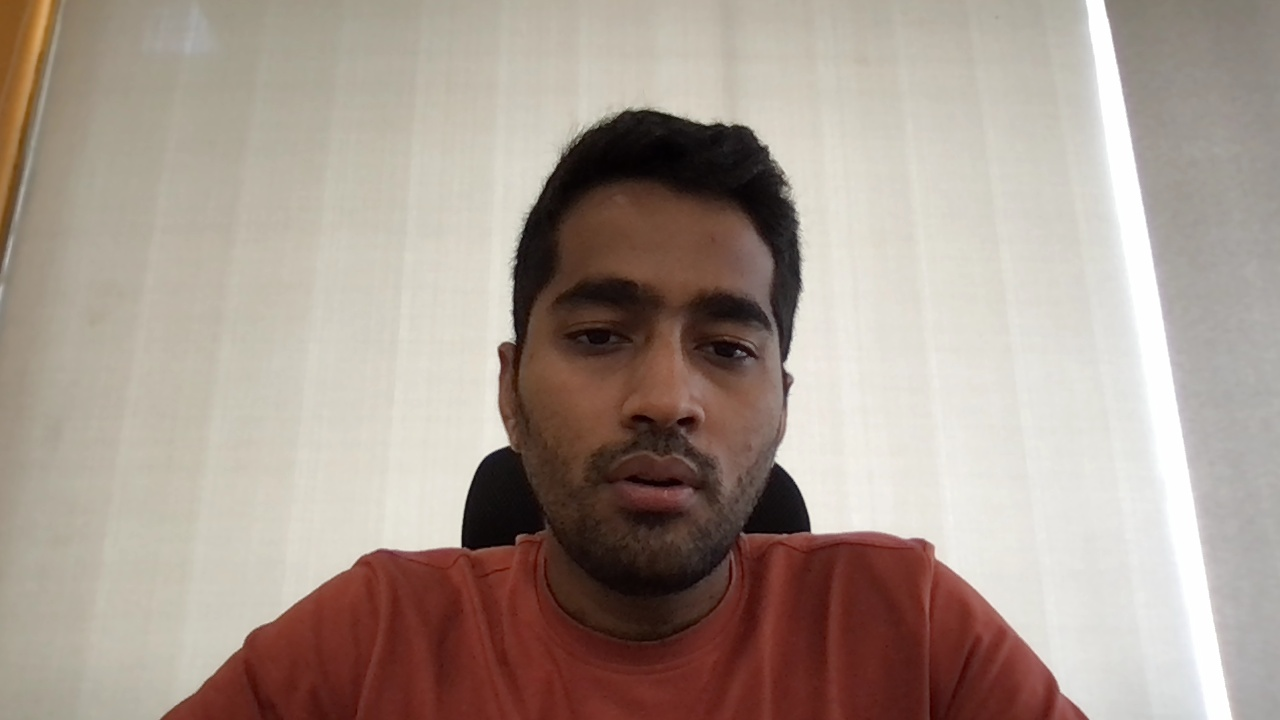no-mask: (516, 375, 788, 597)
